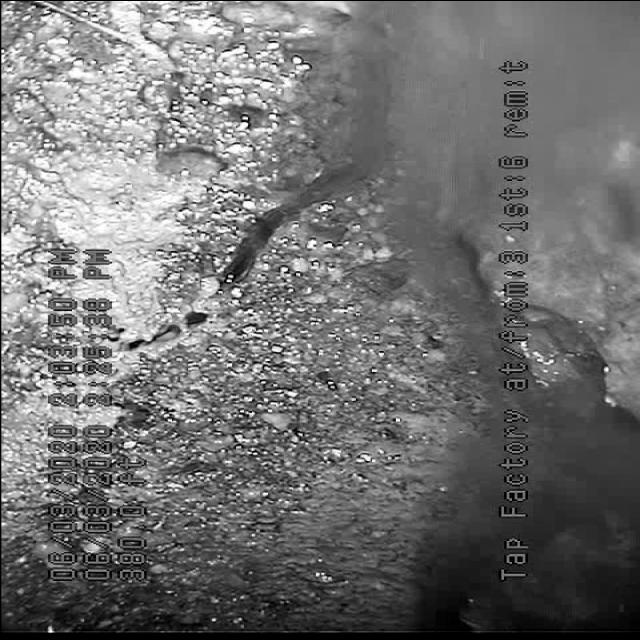Crack: (134, 136, 358, 344)
